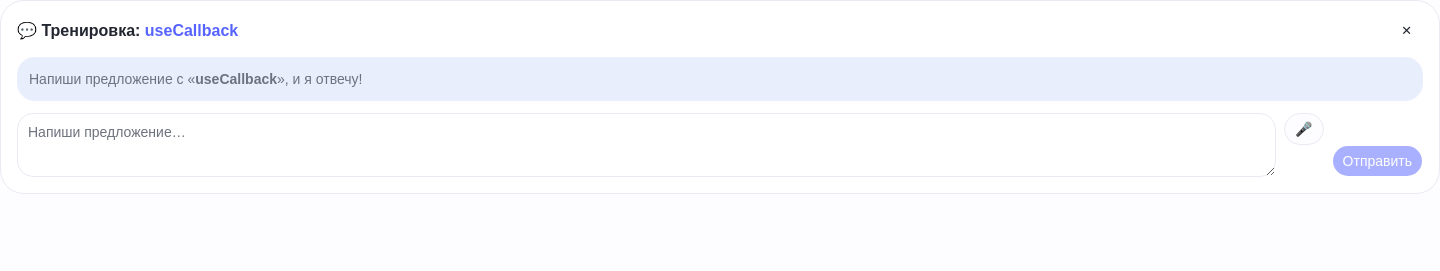
Scenario: DrillChat › sends a typed sentence and shows the AI reply
The image size is (1440, 271).
Type "I memoize with useCallback" into the text box with placeholder "Напиши предложение…" at (647, 145), box [17, 113, 1276, 177]
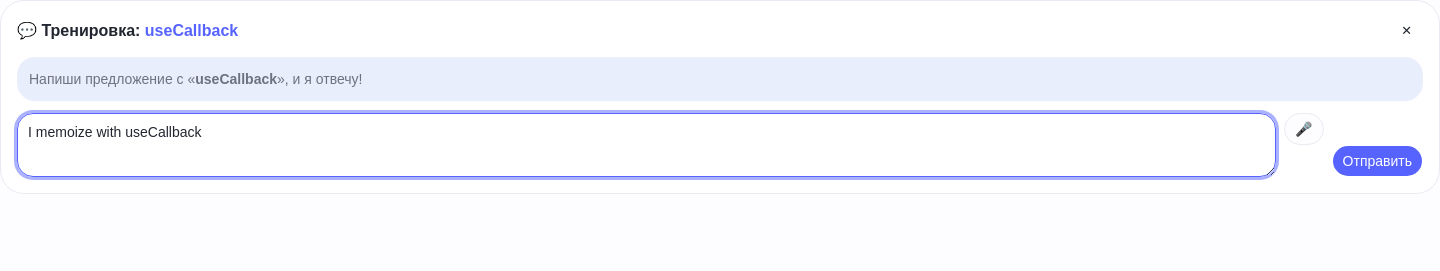
Click the button "Отправить" at (1377, 161), box [1332, 145, 1423, 177]
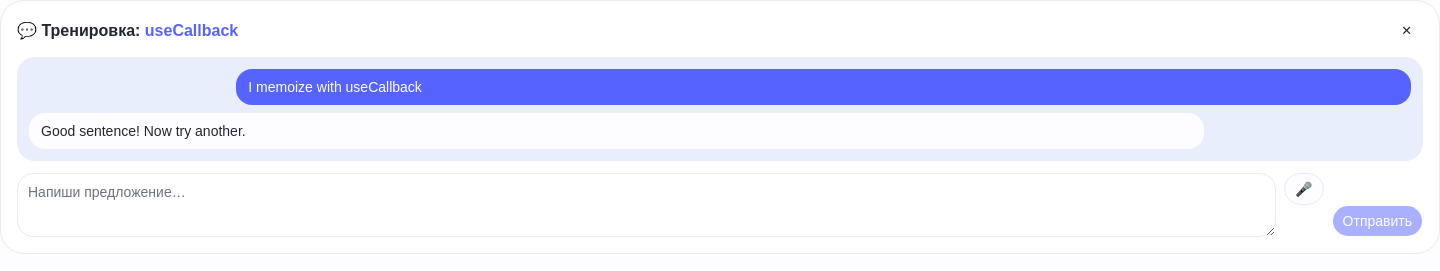
Result: the text "Good sentence! Now try another." is shown at [29, 113, 1204, 149]
